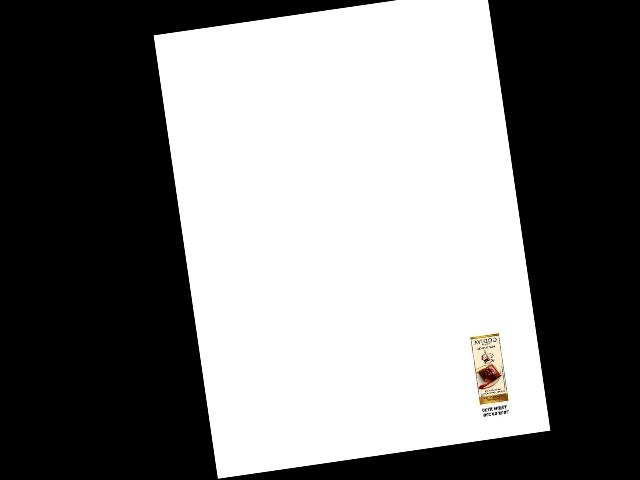chocolate: (467, 331, 508, 407)
